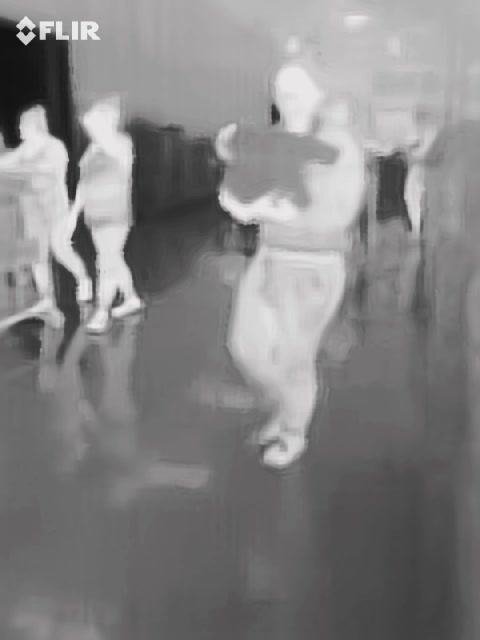head: (269, 61, 327, 131)
